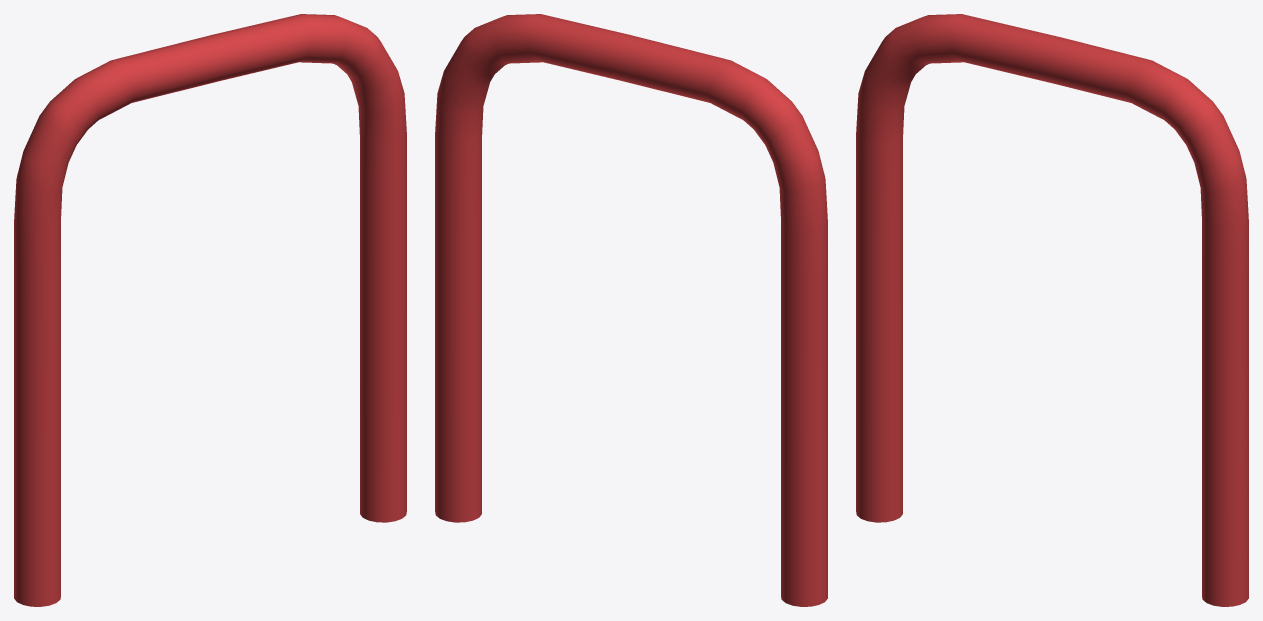
File: Red Door.fbx
3 views of the same model, side by side, from view 1: azimuth 30°, elevation 25°; view 2: azimuth 150°, elevation 25°; view 3: azimuth 330°, elevation 25° (orthographic).
Visible parts, largest first — view 1: door_tax_v2; view 2: door_tax_v2; view 3: door_tax_v2.
Part boxes in pixels (left/top/right/bottom): door_tax_v2: left=14, top=14, right=406, bottom=606; door_tax_v2: left=435, top=14, right=827, bottom=606; door_tax_v2: left=856, top=14, right=1248, bottom=606.
Bounding box in the file's own units: 269 × 343 × 28.25.
